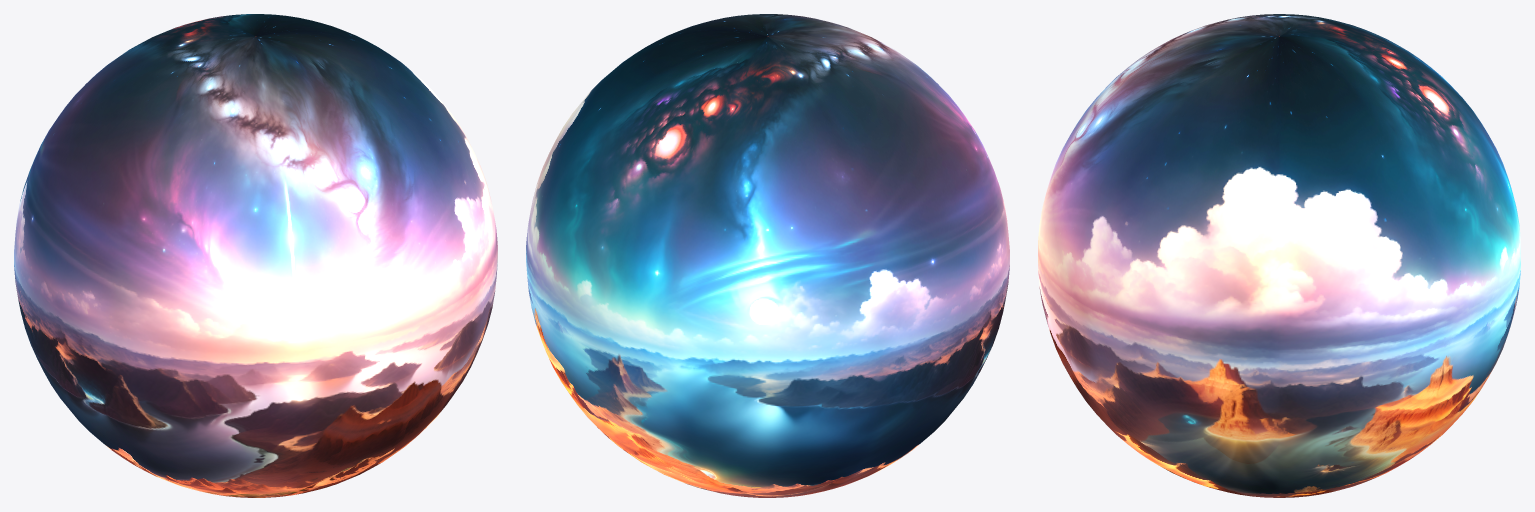
3 renders of one model, left to right at view 1: azimuth 30°, elevation 25°; view 2: azimuth 150°, elevation 25°; view 3: azimuth 270°, elevation 25°, orthographic.
Visible parts, largest first — view 1: pack1; view 2: pack1; view 3: pack1.
Boxes of the visible parts, <box> form: pack1: <box>14,14,497,497</box>; pack1: <box>526,14,1009,497</box>; pack1: <box>1038,14,1520,497</box>.
Bounding box in the file's own units: 0.2478 × 0.248 × 0.2473.
1 material, 1 textured.
